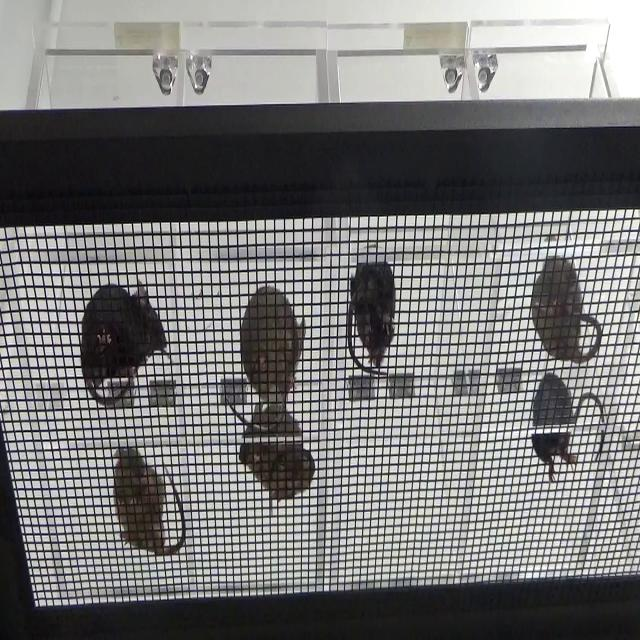lick tail: (527, 253, 607, 369)
